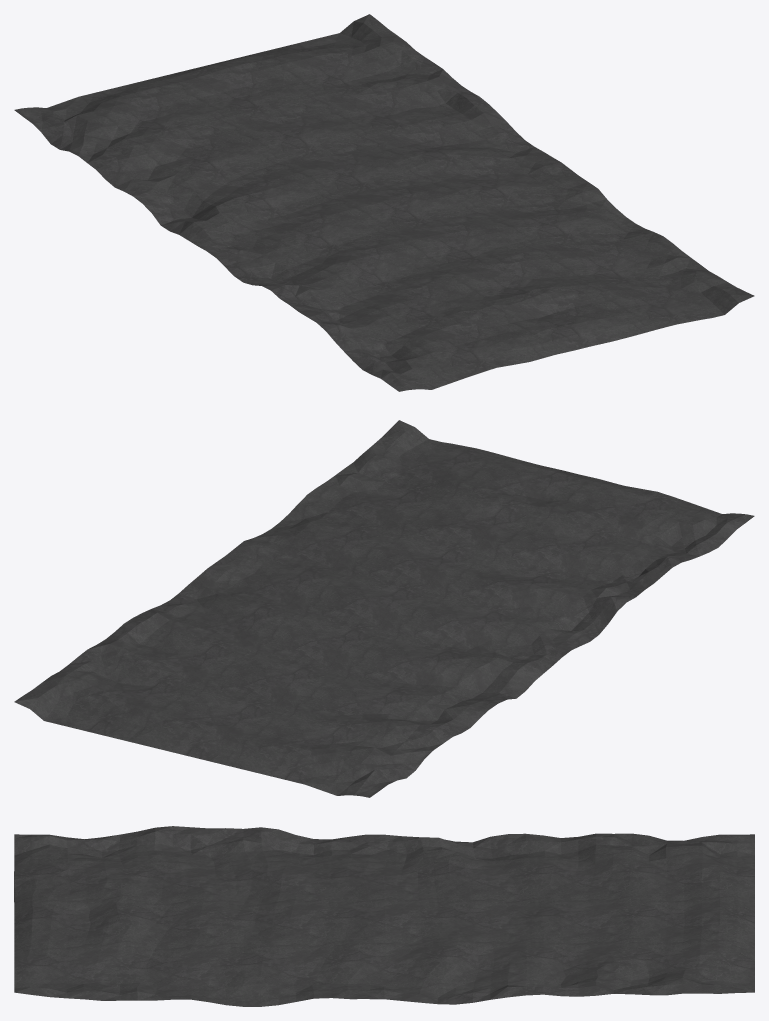
Rendered from FloorSlop02.fbx.
3 renders of one model, top to bottom at view 1: azimuth 30°, elevation 25°; view 2: azimuth 150°, elevation 25°; view 3: azimuth 270°, elevation 25°, orthographic. The views are drawn at different scales.
Parts seen in each view (by area): view 1: SM_ENV_NATURE_Cave_Floor_Slope_30m.mo; view 2: SM_ENV_NATURE_Cave_Floor_Slope_30m.mo; view 3: SM_ENV_NATURE_Cave_Floor_Slope_30m.mo.
Part boxes in pixels (x1=…): SM_ENV_NATURE_Cave_Floor_Slope_30m.mo: x1=14, y1=14, x2=754, y2=391; SM_ENV_NATURE_Cave_Floor_Slope_30m.mo: x1=14, y1=420, x2=754, y2=797; SM_ENV_NATURE_Cave_Floor_Slope_30m.mo: x1=14, y1=826, x2=754, y2=1006.
Size of the model in its own units: 1602 by 88.36 by 3001.
Materials: 1 (1 with a texture image).
